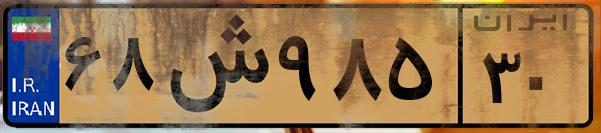0: (525, 38, 570, 115)
3: (475, 38, 525, 113)
5: (385, 28, 445, 110)
6: (57, 26, 110, 100)
8: (330, 28, 385, 110), (110, 28, 158, 98)
9: (270, 28, 330, 110)
ش: (158, 12, 270, 120)
